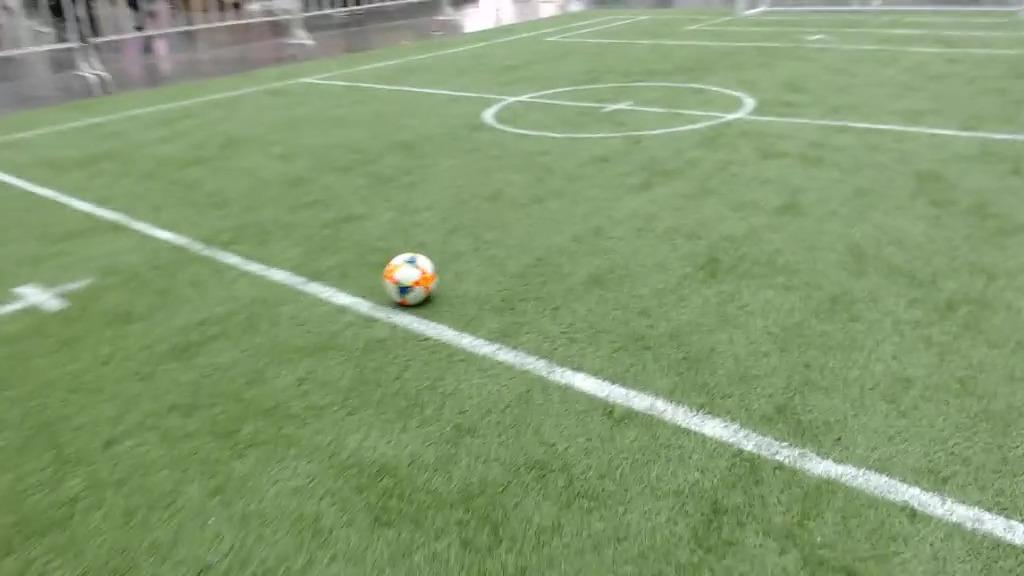ball: (385, 253, 438, 306)
